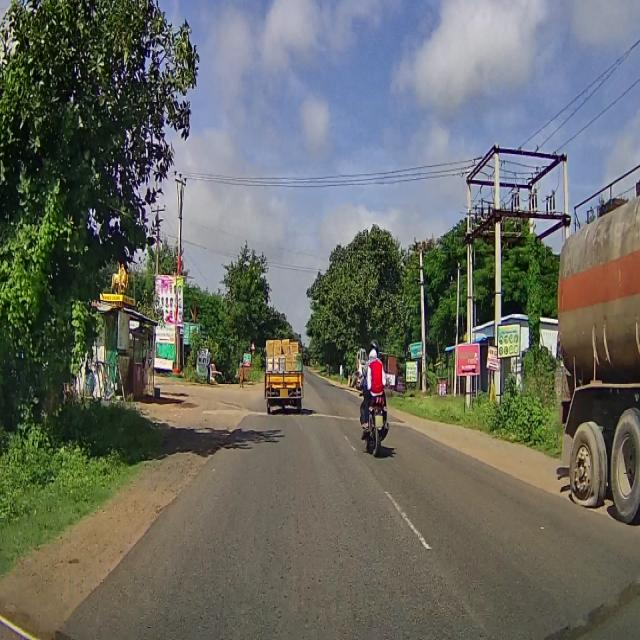truck ahead at: (553, 161, 640, 531), (260, 337, 307, 413)
